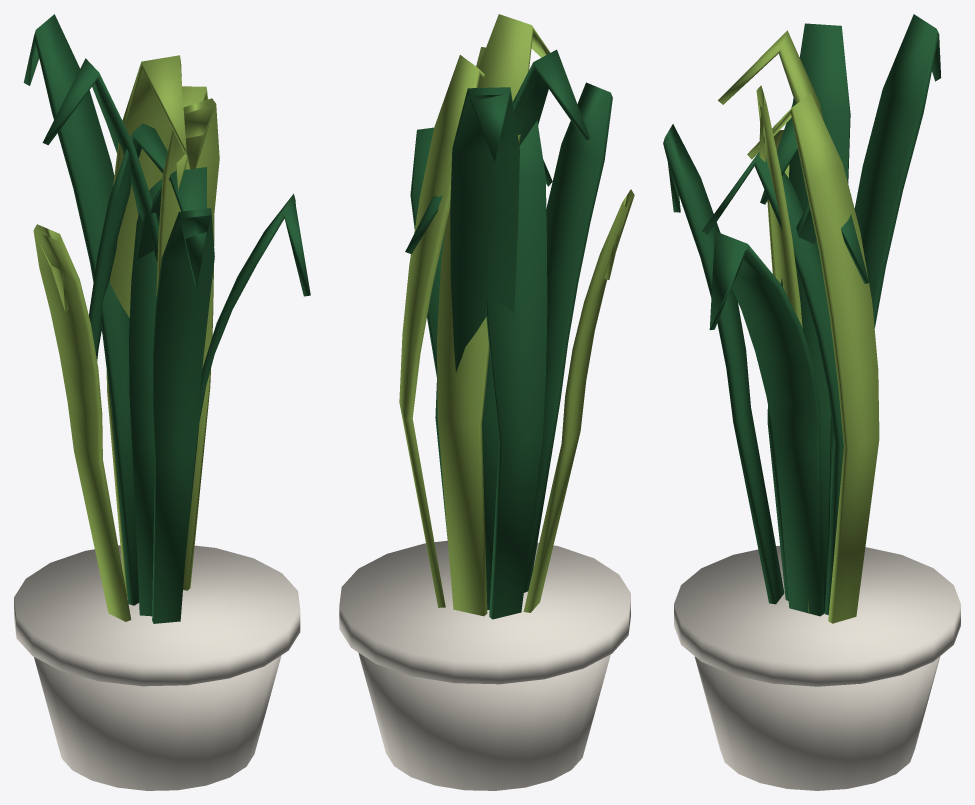
Rendered from SM_PottedSansevieria_Realistic.obj.
The picture shows the model from 3 angles, left to right: view 1: azimuth 30°, elevation 25°; view 2: azimuth 150°, elevation 25°; view 3: azimuth 270°, elevation 25°; orthographic projection. The views are drawn at different scales.
Visible parts, largest first — view 1: SM_PottedSansevieria; view 2: SM_PottedSansevieria; view 3: SM_PottedSansevieria.
Boxes of the visible parts, x1,y1,x2,y2 form: SM_PottedSansevieria: (14, 14, 310, 790); SM_PottedSansevieria: (339, 14, 634, 790); SM_PottedSansevieria: (663, 14, 960, 790).
Size of the model in its own units: 0.3267 by 0.8617 by 0.3301.
